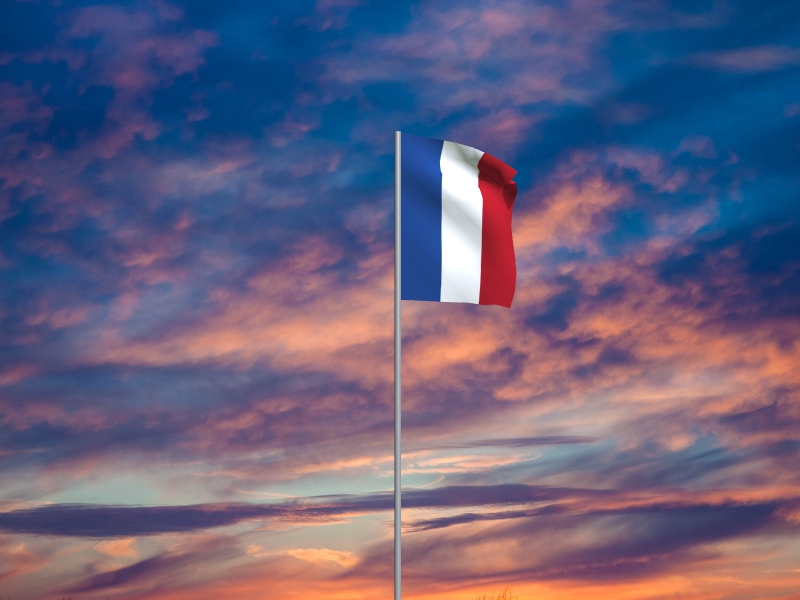nl: (402, 133, 519, 309)
